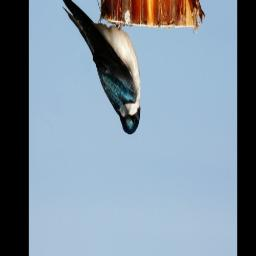Swallow: (61, 0, 141, 136)
